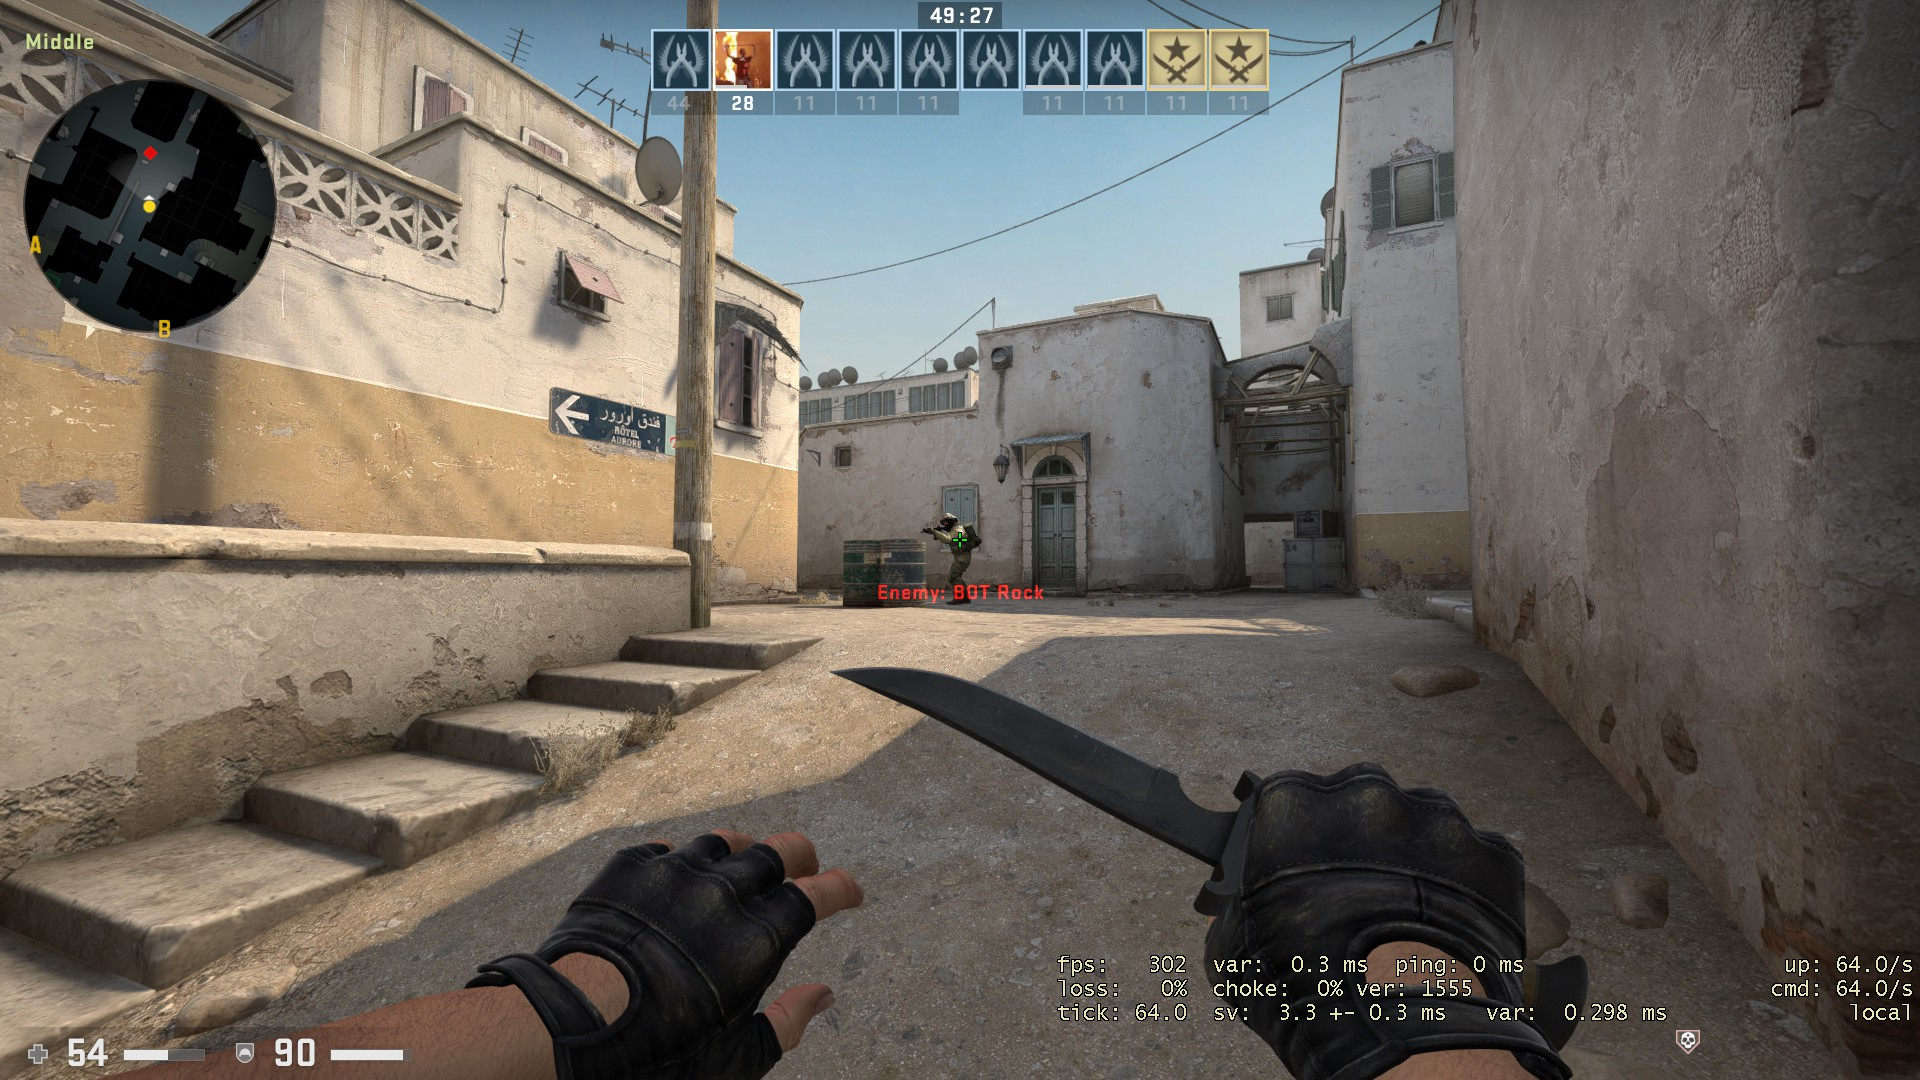player: (915, 507, 986, 610)
